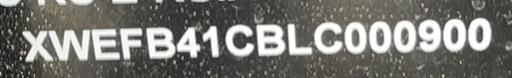letter: (48, 28, 90, 61), (224, 22, 256, 61), (254, 22, 286, 60), (313, 20, 343, 56), (286, 19, 314, 57), (144, 26, 176, 59), (88, 27, 120, 60), (21, 28, 53, 61), (391, 19, 417, 56), (442, 14, 466, 52), (418, 17, 442, 53), (368, 18, 392, 54), (343, 19, 367, 55), (468, 16, 492, 51), (201, 21, 223, 59), (176, 25, 200, 59), (119, 26, 143, 60)
